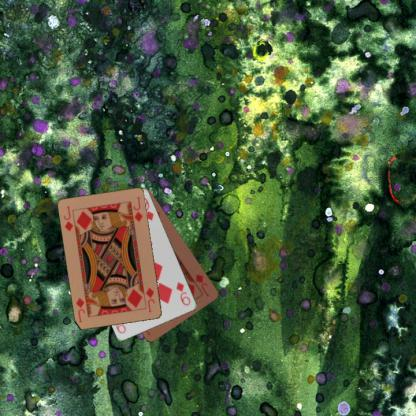9d: (173, 280, 192, 307)
Jd: (193, 271, 210, 298), (61, 204, 75, 233), (143, 285, 156, 314)
